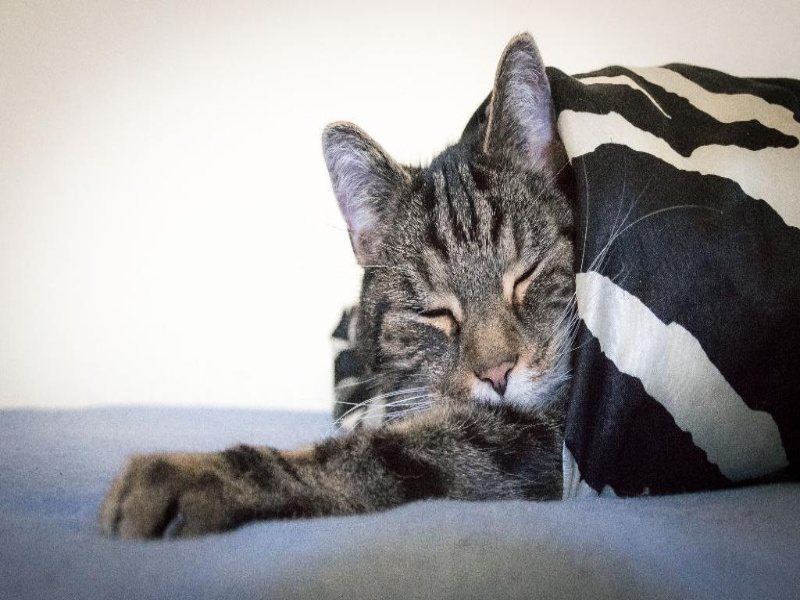cat: (102, 27, 669, 556)
